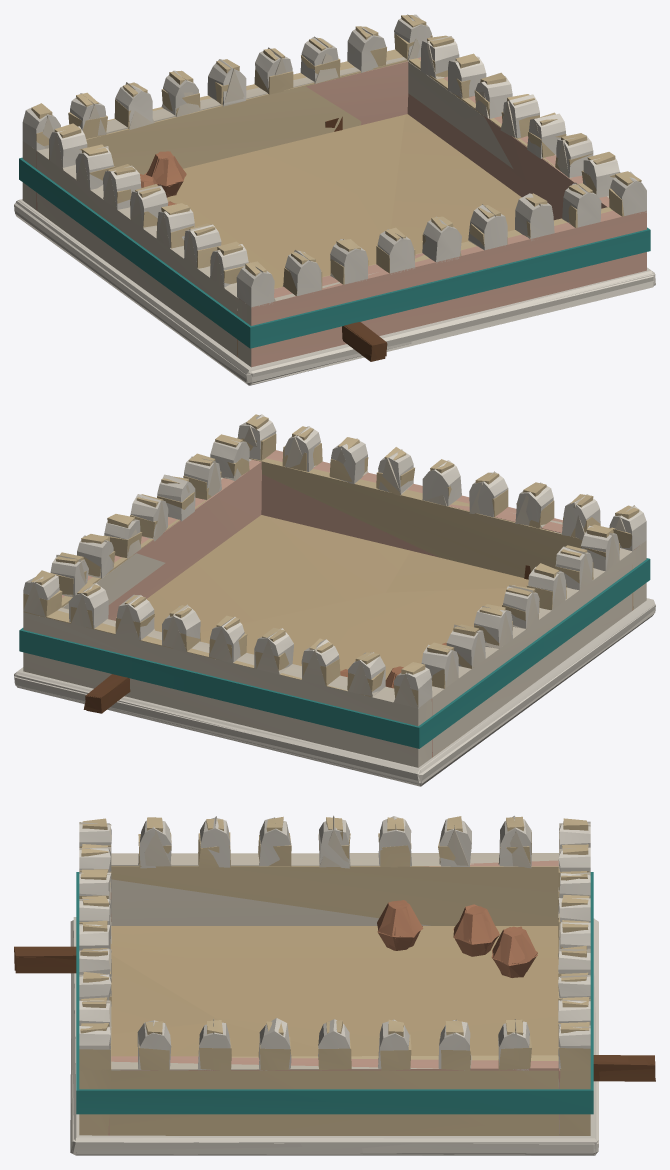
Rendered from roof.gable.glb.
The picture shows the model from 3 angles, top to bottom: view 1: azimuth 30°, elevation 25°; view 2: azimuth 150°, elevation 25°; view 3: azimuth 270°, elevation 25°; orthographic projection. The views are drawn at different scales.
Parts seen in each view (by area): view 1: roof.gable.v1.mesh, roof.gable.v2.mesh, roof.gable.v0.mesh; view 2: roof.gable.v1.mesh, roof.gable.v2.mesh, roof.gable.v0.mesh; view 3: roof.gable.v0.mesh, roof.gable.v2.mesh, roof.gable.v1.mesh.
Boxes of the visible parts, box(x1,y1,x2,y2) form: roof.gable.v1.mesh: box(14, 14, 655, 385); roof.gable.v2.mesh: box(15, 14, 653, 385); roof.gable.v0.mesh: box(16, 15, 653, 377); roof.gable.v1.mesh: box(15, 414, 655, 784); roof.gable.v2.mesh: box(14, 416, 655, 786); roof.gable.v0.mesh: box(14, 414, 639, 786); roof.gable.v0.mesh: box(14, 816, 655, 1155); roof.gable.v2.mesh: box(15, 815, 655, 1155); roof.gable.v1.mesh: box(14, 816, 630, 1154).
Bounding box in the file's own units: 2.07 × 0.5331 × 2.51.
